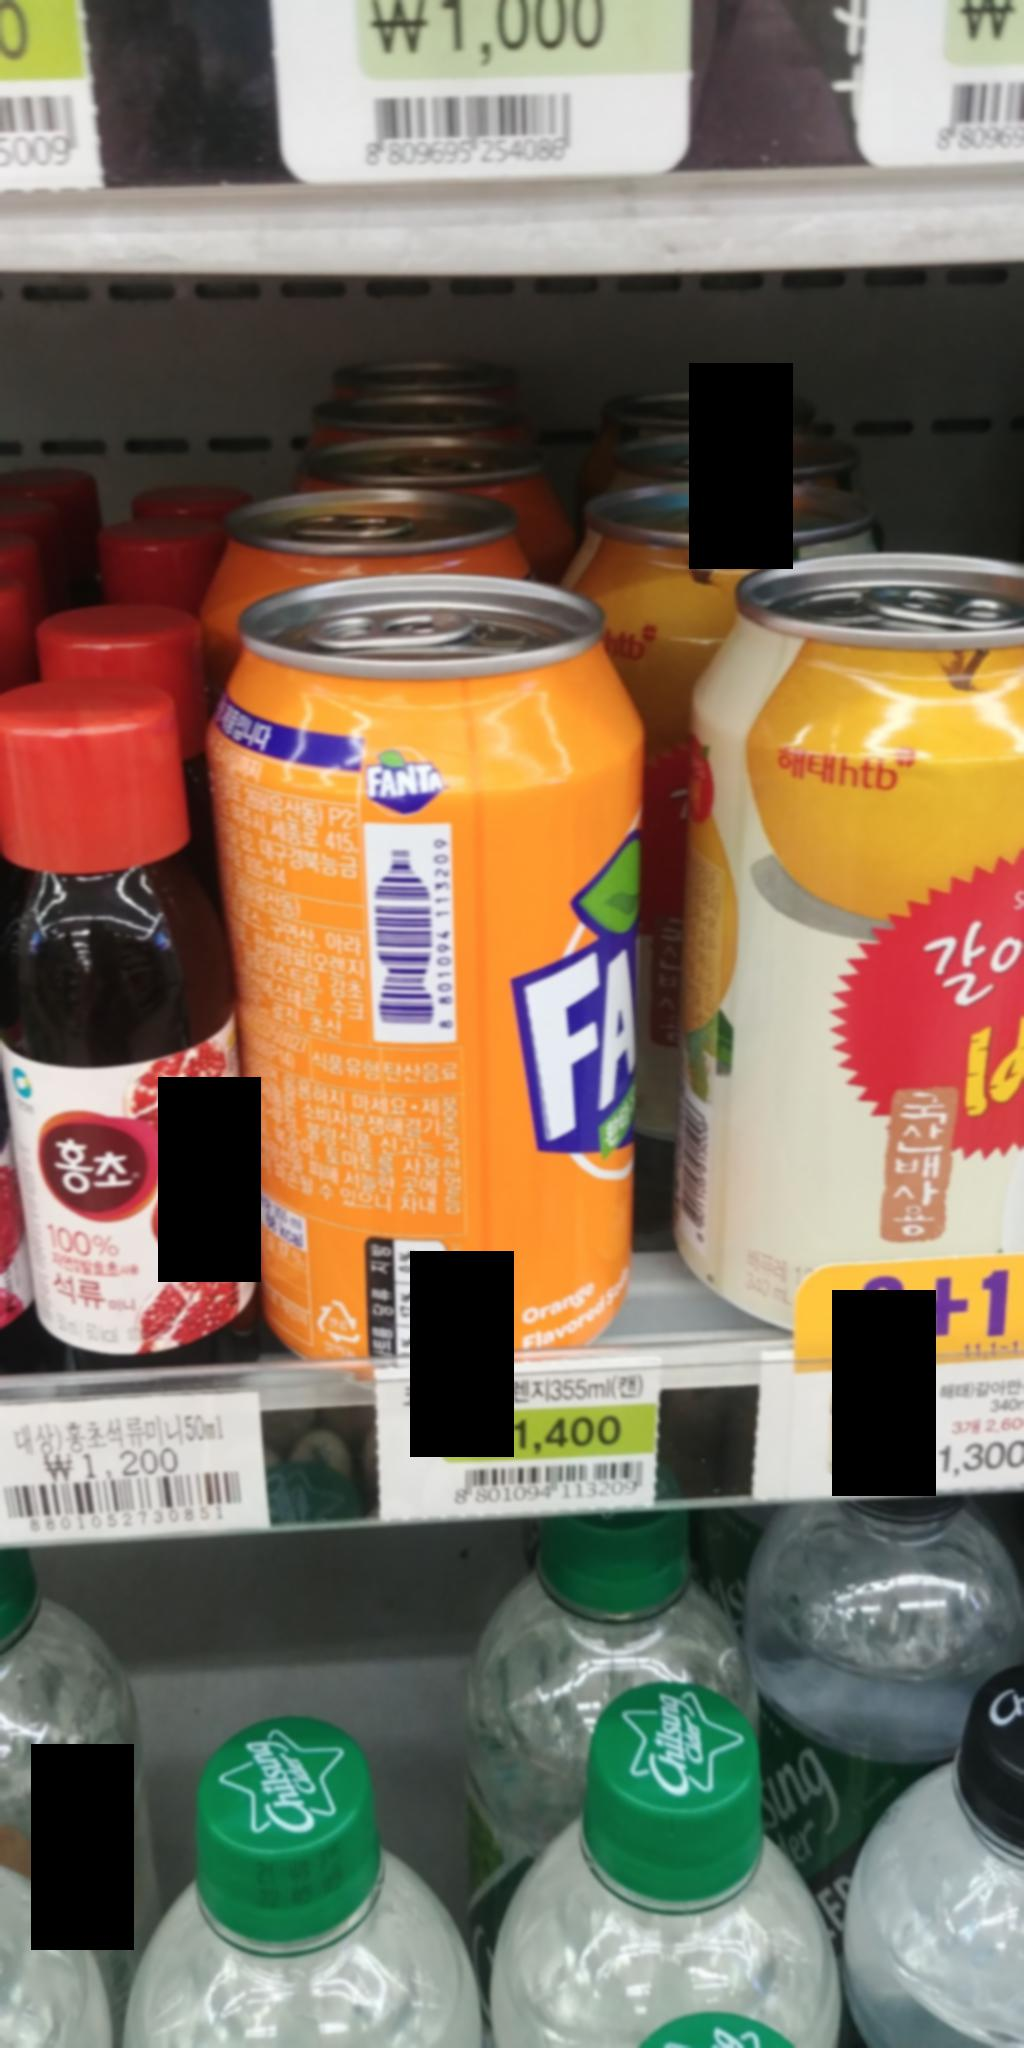fanta_orange: (212, 581, 654, 1353)
